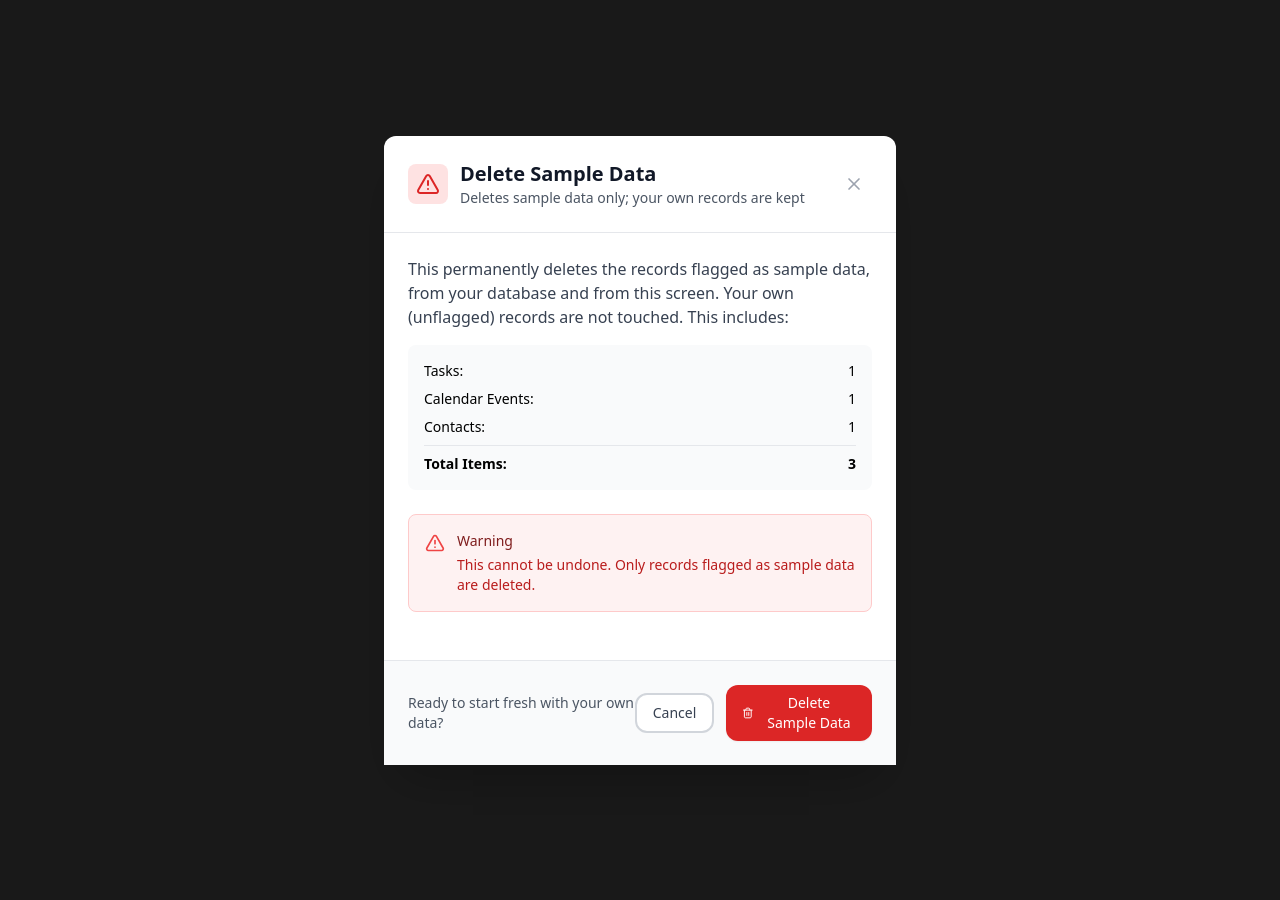
Scenario: DeleteMockDataDialog › shows an error and keeps the data when the delete fails
This screenshot has width=1280, height=900.
Expected: the text "Tasks:" is shown, x1=424 y1=360 x2=463 y2=380
Click the button "Delete Sample Data": (799, 712) x1=726 y1=684 x2=872 y2=740
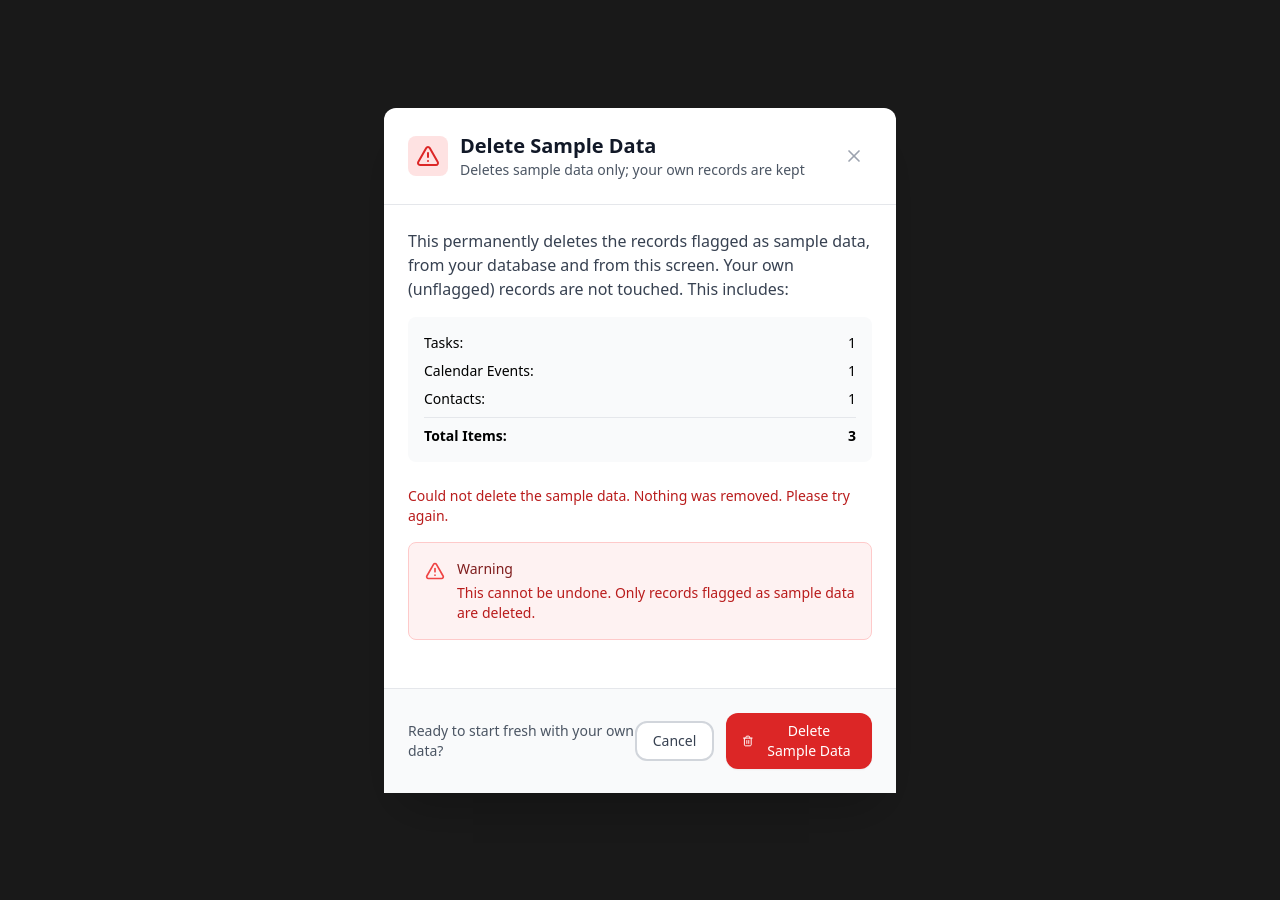
Result: the message shows "Nothing was removed" at x1=408 y1=486 x2=850 y2=524
